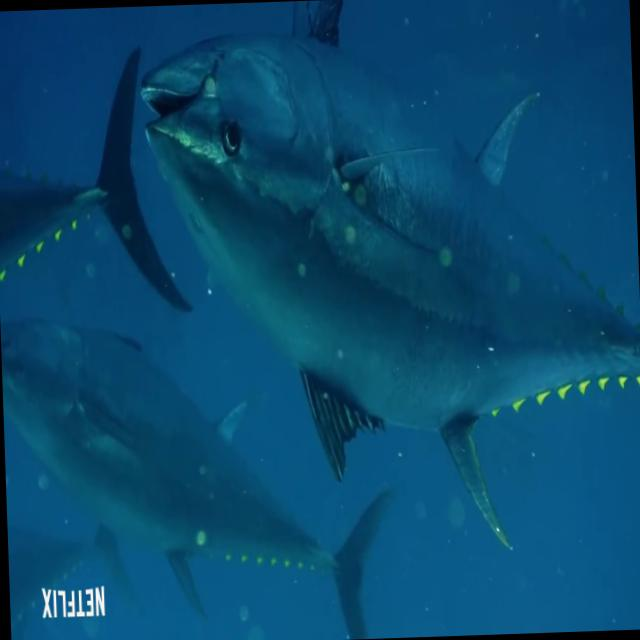fish: (135, 0, 640, 444), (0, 302, 374, 596)
